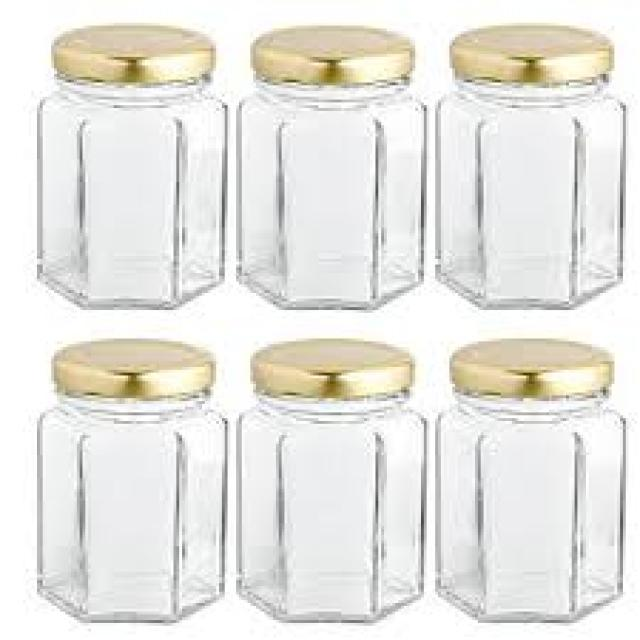glass: (233, 387, 424, 623), (37, 71, 222, 310), (34, 387, 222, 620), (435, 71, 620, 307), (236, 74, 424, 304), (435, 387, 617, 617)
metal: (51, 23, 211, 82), (444, 26, 609, 83), (250, 336, 410, 393), (51, 339, 211, 396), (250, 26, 410, 80), (446, 339, 606, 390)
